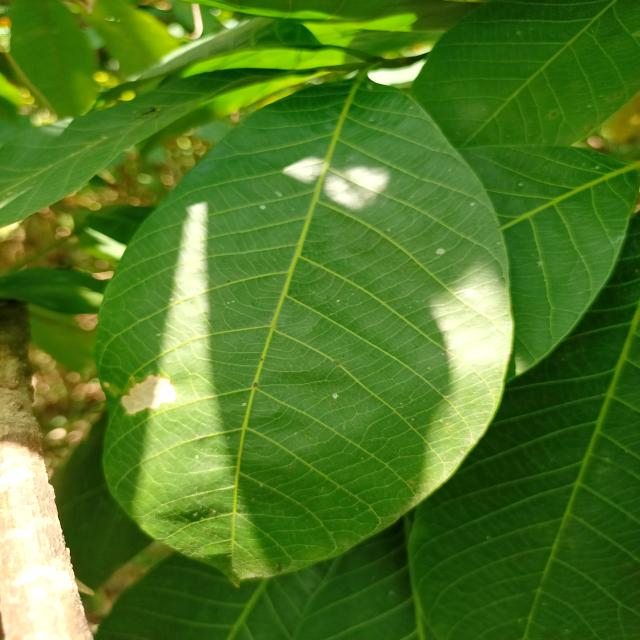Leaf-Blight: (121, 374, 177, 414)
